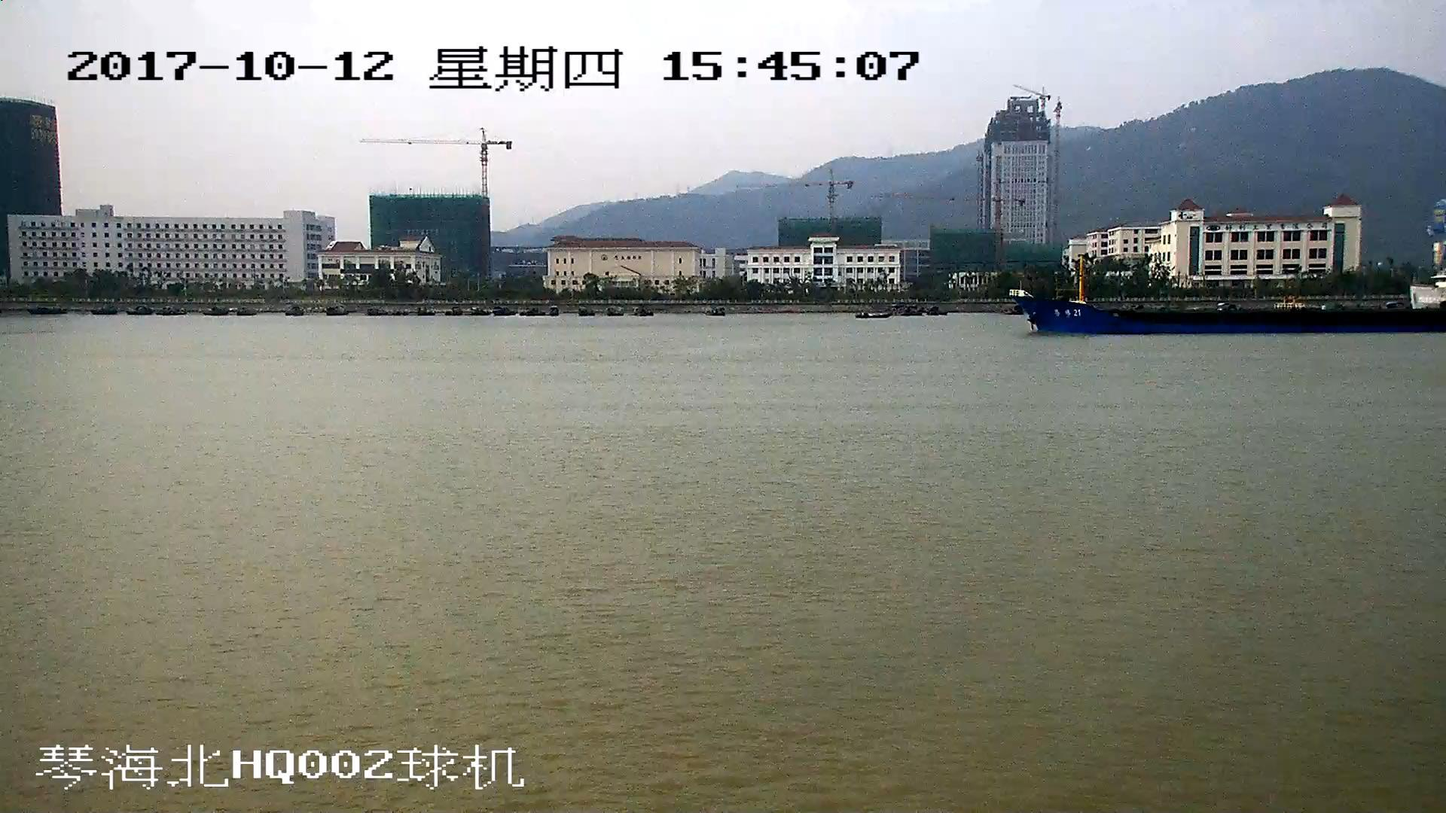general cargo ship: (1013, 282, 1445, 336)
